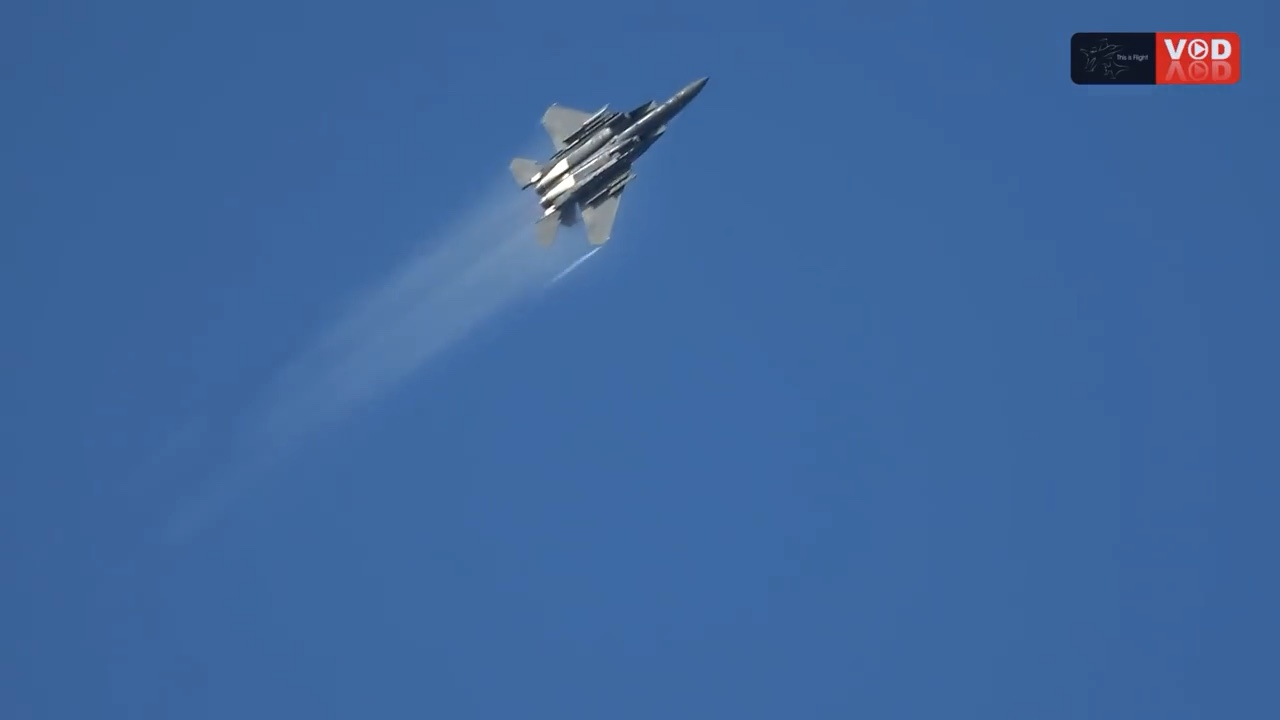f15: (507, 72, 712, 252)
